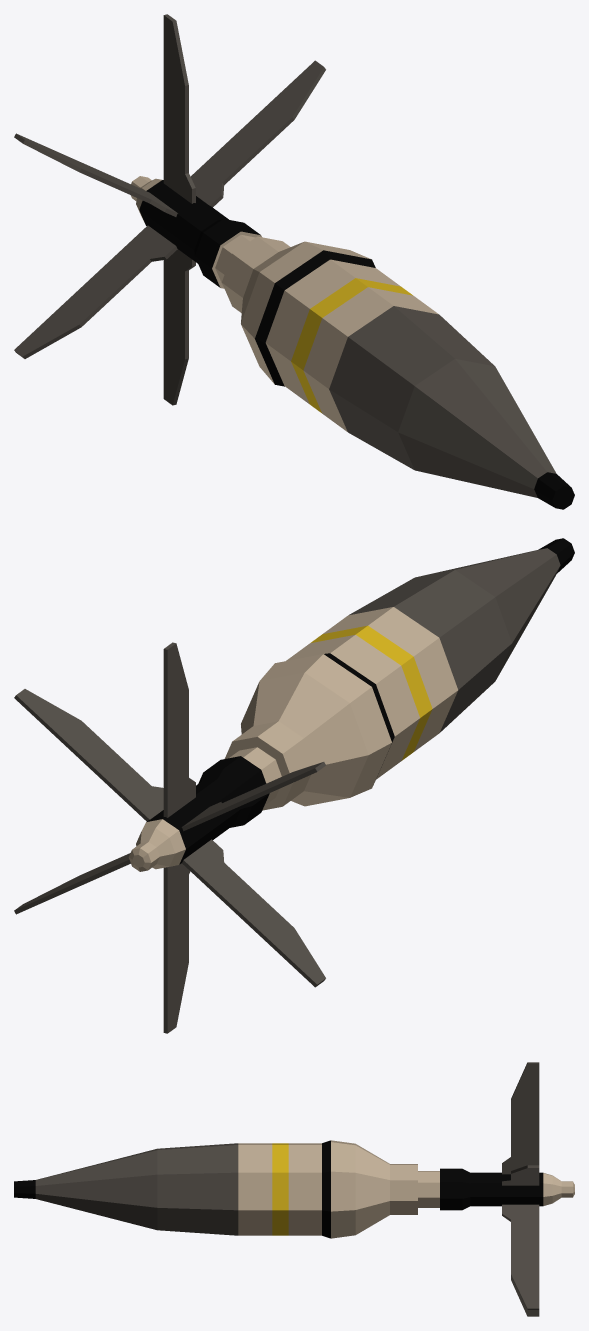
The model's file is AT4 Rocket.fbx.
The picture shows the model from 3 angles, top to bottom: view 1: azimuth 30°, elevation 25°; view 2: azimuth 150°, elevation 25°; view 3: azimuth 270°, elevation 25°; orthographic projection. The views are drawn at different scales.
Visible parts, largest first — view 1: Cylinder; view 2: Cylinder; view 3: Cylinder.
Part boxes in pixels (x1,y1,x2,y2): Cylinder: [14, 14, 574, 509]; Cylinder: [14, 538, 574, 1033]; Cylinder: [14, 1062, 574, 1316].
Size of the model in its own units: 18.97 by 22.94 by 46.04.
